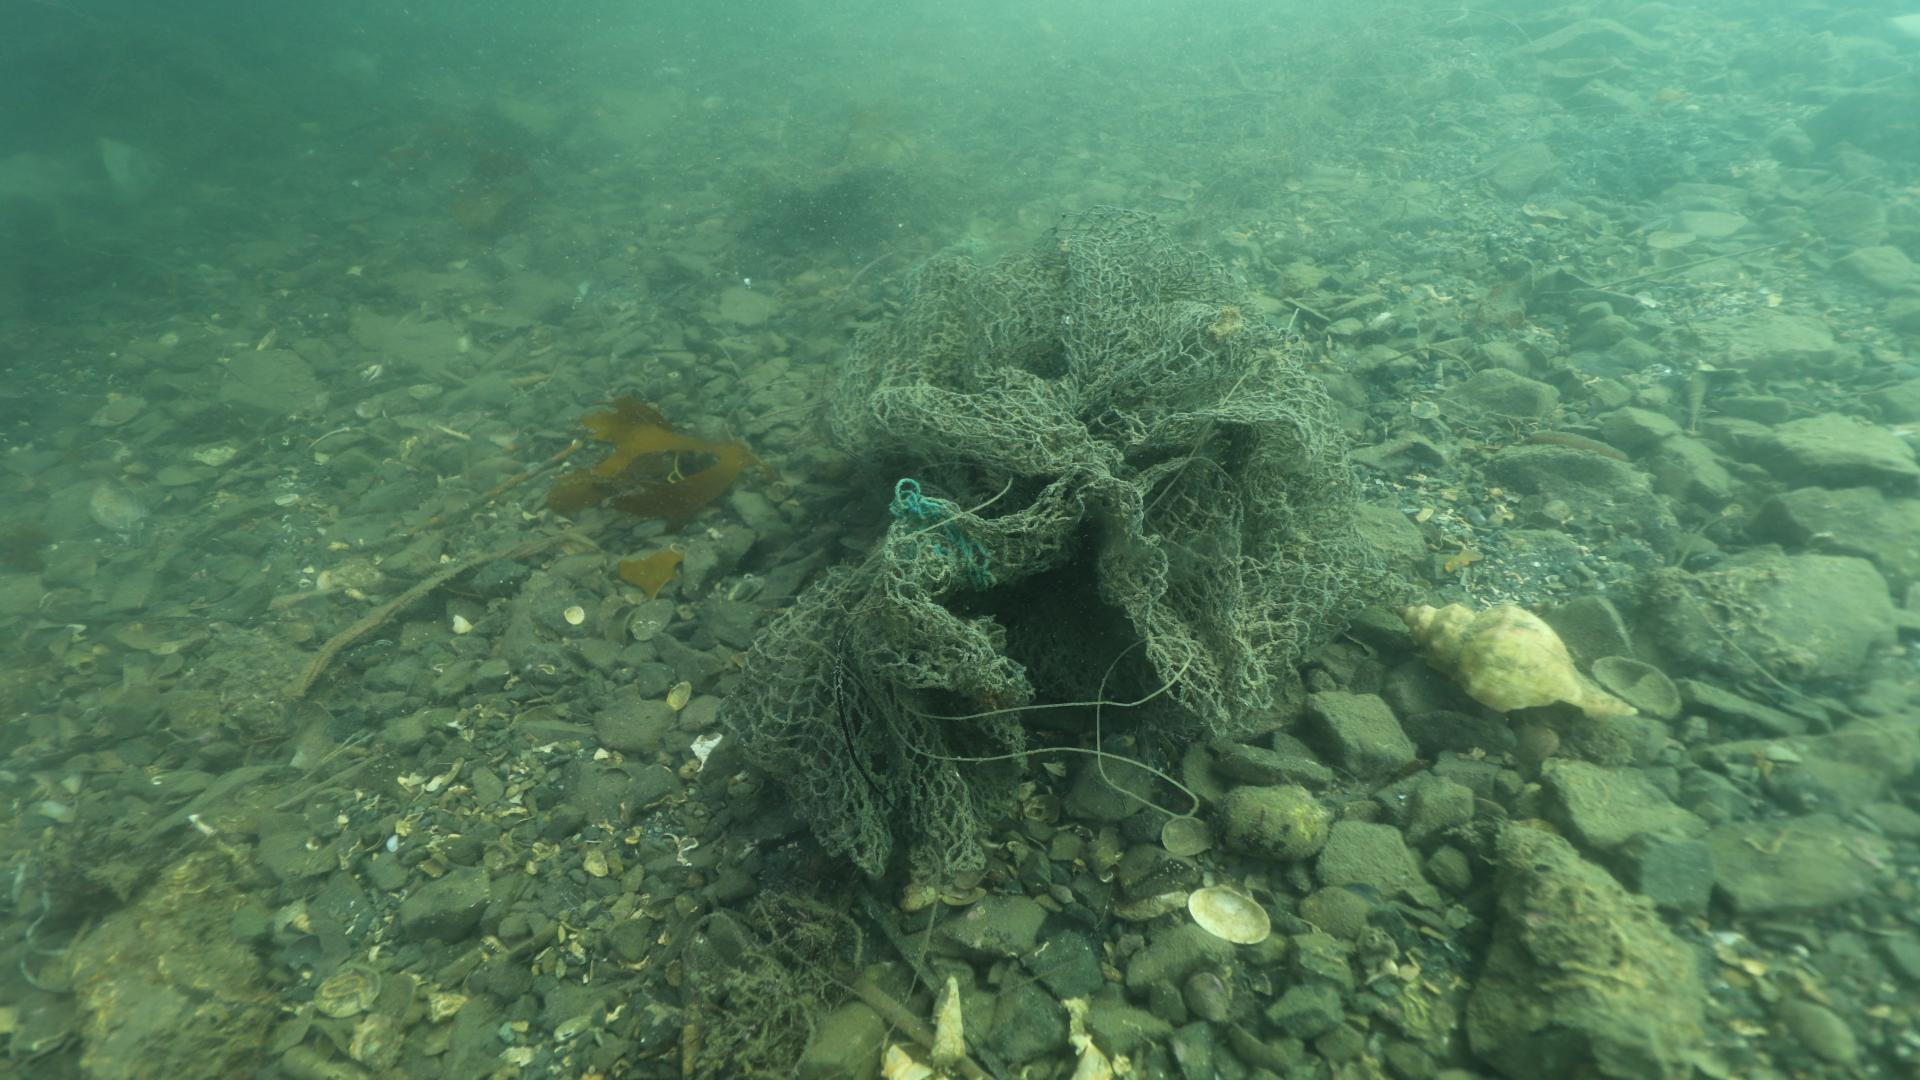fish net: (729, 203, 1395, 878)
